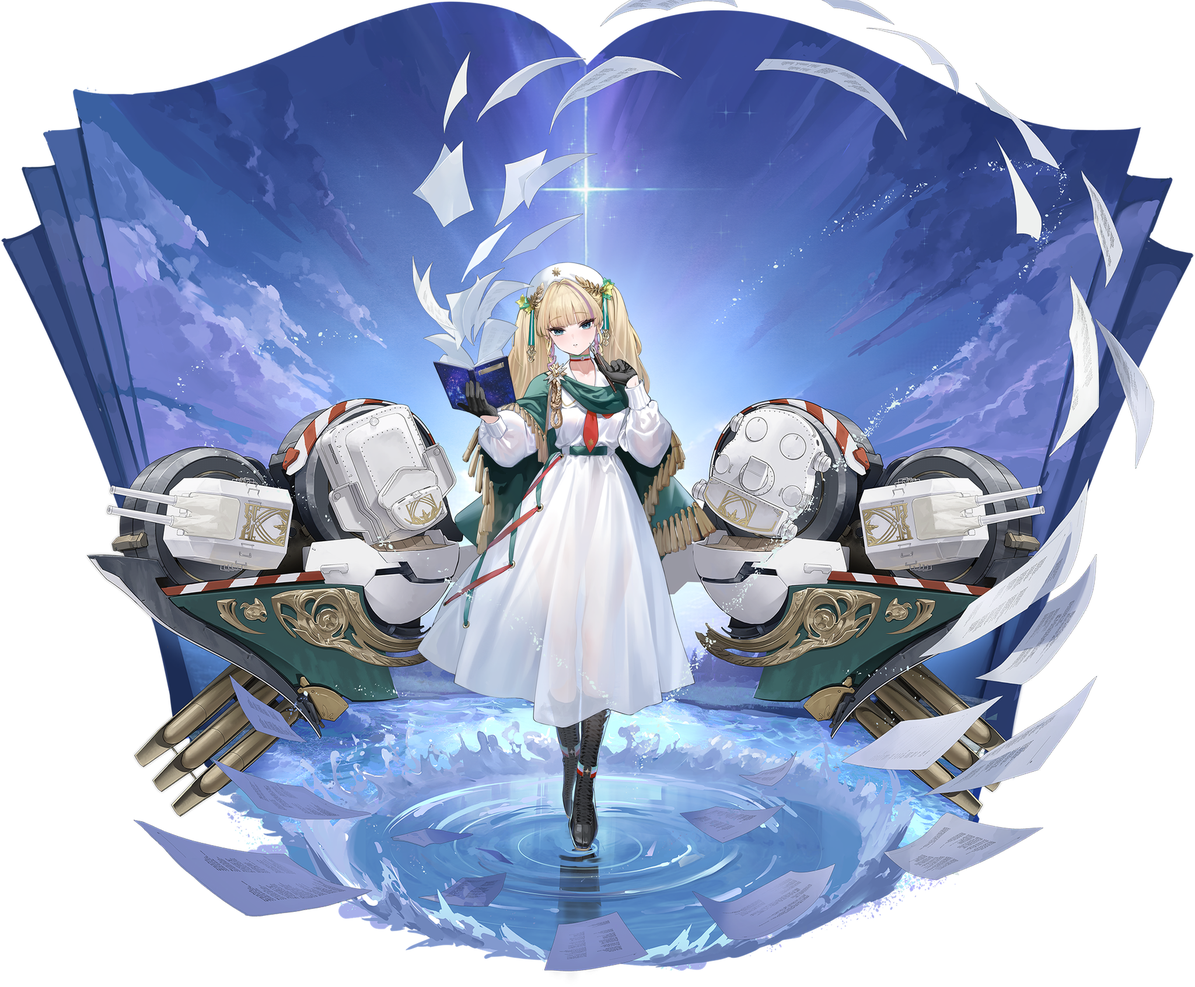person: (399, 223, 720, 888)
